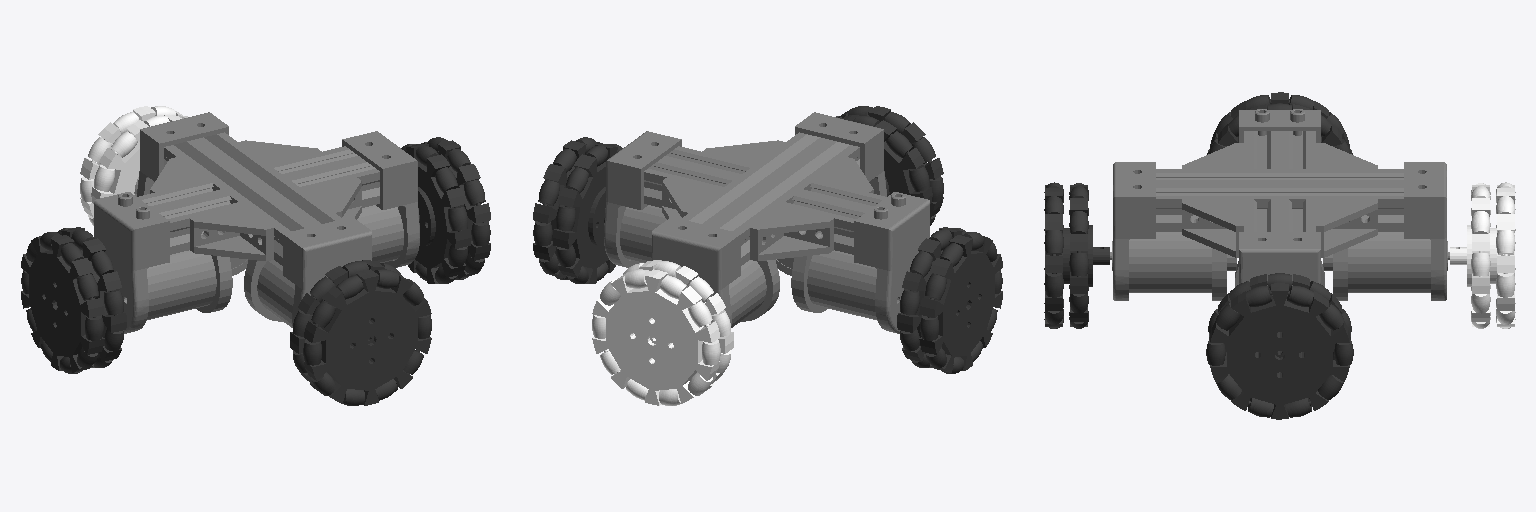
URDF robot description (tank):
<?xml version="1.0" encoding="utf-8"?>
<robot name="tank" xmlns:xacro="http://ros.org/wiki/xacro">
  <link 
    name="dummy">
  </link>
  <joint name="dummy_joint" type="fixed">
    <parent link="dummy"/>
    <child link="core_link"/>
  </joint>
  <link
    name="core_link">
    <inertial>
      <origin
        xyz="-0.00011269 1.2452E-09 -0.033141"
        rpy="0 0 0" />
      <mass
        value="0.60403" />
      <inertia
        ixx="0.00036237"
        ixy="3.6922E-11"
        ixz="-6.0518E-11"
        iyy="0.00022509"
        iyz="-6.8687E-12"
        izz="0.00040708" />
    </inertial>
    <visual>
      <origin
        xyz="0 0 0"
        rpy="0 0 0" />
      <geometry>
        <mesh
          filename="package://tank/meshes/core_link.STL" />
      </geometry>
      <material
        name="">
        <color
          rgba="0.56471 0.56471 0.56471 1" />
      </material>
    </visual>
    <collision>
      <origin
        xyz="0 0 0"
        rpy="0 0 0" />
      <geometry>
        <mesh
          filename="package://tank/meshes/core_link.STL" />
      </geometry>
    </collision>
  </link>
  <gazebo reference="core_link">
  <material>Gazebo/Red</material>
  </gazebo>
  <link
    name="wheel_1">
    <inertial>
      <origin
        xyz="-0.01248 -2.5517E-08 -1.6458E-05"
        rpy="0 0 0" />
      <mass
        value="0.096925" />
      <inertia
        ixx="4.4379E-05"
        ixy="5.581E-13"
        ixz="-2.3462E-13"
        iyy="2.2503E-05"
        iyz="1.4393E-14"
        izz="2.2504E-05" />
    </inertial>
    <visual>
      <origin
        xyz="0 0 0"
        rpy="0 0 0" />
      <geometry>
        <mesh
          filename="package://tank/meshes/wheel_1.STL" />
      </geometry>
      <material
        name="">
        <color
          rgba="0.28235 0.28235 0.28235 1" />
      </material>
    </visual>
    <collision>
      <origin
        xyz="0 0 0"
        rpy="0 0 0" />
      <geometry>
        <mesh
          filename="package://tank/meshes/wheel_1.STL" />
      </geometry>
    </collision>
  </link>
  <joint
    name="wheel_1"
    type="continuous">
    <origin
      xyz="0.132 0 -0.0445"
      rpy="0 0 0" />
    <parent
      link="core_link" />
    <child
      link="wheel_1" />
    <axis
      xyz="-1 0 0" />
    <limit
      effort="10"
      velocity="10" />
    <dynamics
      damping="0.1"
      friction="0.1" />
  </joint>
  <link
    name="wheel_2">
    <inertial>
      <origin
        xyz="2.55166618823993E-08 1.64579697312234E-05 -0.0124800368672633"
        rpy="0 0 0" />
      <mass
        value="0.0969248758881471" />
      <inertia
        ixx="2.25033220760336E-05"
        ixy="1.43930304626409E-14"
        ixz="-5.58103400415268E-13"
        iyy="2.25037475309425E-05"
        iyz="2.34618173769376E-13"
        izz="4.43791952630414E-05" />
    </inertial>
    <visual>
      <origin
        xyz="0 0 0"
        rpy="0 0 0" />
      <geometry>
        <mesh
          filename="package://tank/meshes/wheel_2.STL" />
      </geometry>
      <material
        name="">
        <color
          rgba="1 1 1 1" />
      </material>
    </visual>
    <collision>
      <origin
        xyz="0 0 0"
        rpy="0 0 0" />
      <geometry>
        <mesh
          filename="package://tank/meshes/wheel_2.STL" />
      </geometry>
    </collision>
  </link>
  <joint
    name="wheel_2"
    type="continuous">
    <origin
      xyz="0 0.132 -0.0445"
      rpy="-1.5708 0 0" />
    <parent
      link="core_link" />
    <child
      link="wheel_2" />
    <axis
      xyz="0 0 -1" />
    <limit
      effort="10"
      velocity="10" />
    <dynamics
      damping="0.1"
      friction="0.1" />
  </joint>
  <link
    name="wheel_3">
    <inertial>
      <origin
        xyz="0.0124800368672634 2.55166619916869E-08 -1.64579697313344E-05"
        rpy="0 0 0" />
      <mass
        value="0.096924875888147" />
      <inertia
        ixx="4.43791952630414E-05"
        ixy="5.58103400840208E-13"
        ixz="2.34618173173316E-13"
        iyy="2.25033220760335E-05"
        iyz="-1.43930293191587E-14"
        izz="2.25037475309425E-05" />
    </inertial>
    <visual>
      <origin
        xyz="0 0 0"
        rpy="0 0 0" />
      <geometry>
        <mesh
          filename="package://tank/meshes/wheel_3.STL" />
      </geometry>
      <material
        name="">
        <color
          rgba="0.282352941176471 0.282352941176471 0.282352941176471 1" />
      </material>
    </visual>
    <collision>
      <origin
        xyz="0 0 0"
        rpy="0 0 0" />
      <geometry>
        <mesh
          filename="package://tank/meshes/wheel_3.STL" />
      </geometry>
    </collision>
  </link>
  <joint
    name="wheel_3"
    type="continuous">
    <origin
      xyz="-0.132 0 -0.0445"
      rpy="0 0 0" />
    <parent
      link="core_link" />
    <child
      link="wheel_3" />
    <axis
      xyz="1 0 0" />
    <limit
      effort="10"
      velocity="10" />
    <dynamics
      damping="0.1"
      friction="0.1" />
  </joint>
  <link
    name="wheel_4">
    <inertial>
      <origin
        xyz="-2.55166619483188E-08 1.64579697312581E-05 0.0124800368672634"
        rpy="0 0 0" />
      <mass
        value="0.0969248758881472" />
      <inertia
        ixx="2.25033220760335E-05"
        ixy="-1.43930303262096E-14"
        ixz="-5.58103400718429E-13"
        iyy="2.25037475309425E-05"
        iyz="-2.34618195303625E-13"
        izz="4.43791952630414E-05" />
    </inertial>
    <visual>
      <origin
        xyz="0 0 0"
        rpy="0 0 0" />
      <geometry>
        <mesh
          filename="package://tank/meshes/wheel_4.STL" />
      </geometry>
      <material
        name="">
        <color
          rgba="0.282352941176471 0.282352941176471 0.282352941176471 1" />
      </material>
    </visual>
    <collision>
      <origin
        xyz="0 0 0"
        rpy="0 0 0" />
      <geometry>
        <mesh
          filename="package://tank/meshes/wheel_4.STL" />
      </geometry>
    </collision>
  </link>
  <joint
    name="wheel_4"
    type="continuous">
    <origin
      xyz="0 -0.132 -0.0445"
      rpy="-1.5708 0 0" />
    <parent
      link="core_link" />
    <child
      link="wheel_4" />
    <axis
      xyz="0 0 1" />
    <limit
      effort="10"
      velocity="10" />
    <dynamics
      damping="0.1"
      friction="0.1" />
  </joint>
</robot>

--- Render facts (derived) ---
Views: 3 orthographic renders of the robot side by side, from view 1: azimuth 30°, elevation 25°; view 2: azimuth 150°, elevation 25°; view 3: azimuth 270°, elevation 25°.
Robot: tank — 6 links, 5 joints (4 continuous, 1 fixed); root link dummy; default pose: all joints at 0.
Visible links, largest first — view 1: core_link, wheel_4, wheel_3, wheel_1, wheel_2; view 2: core_link, wheel_2, wheel_3, wheel_1, wheel_4; view 3: core_link, wheel_1, wheel_2, wheel_4, wheel_3.
Boxes of the visible links, <box> form: core_link: <box>94,112,419,333</box>; wheel_4: <box>290,260,431,405</box>; wheel_3: <box>21,227,126,373</box>; wheel_1: <box>401,137,490,283</box>; wheel_2: <box>80,106,187,225</box>; core_link: <box>604,112,929,333</box>; wheel_2: <box>592,260,733,405</box>; wheel_3: <box>897,227,1002,373</box>; wheel_1: <box>533,137,622,283</box>; wheel_4: <box>836,106,943,225</box>; core_link: <box>1110,109,1449,300</box>; wheel_1: <box>1206,273,1353,419</box>; wheel_2: <box>1450,182,1515,328</box>; wheel_4: <box>1044,182,1109,328</box>; wheel_3: <box>1207,92,1352,154</box>.
Size in the robot's own frame: 0.265 by 0.265 by 0.094 metres.
5 mesh visuals loaded from 5 distinct referenced files (5 binary STL).